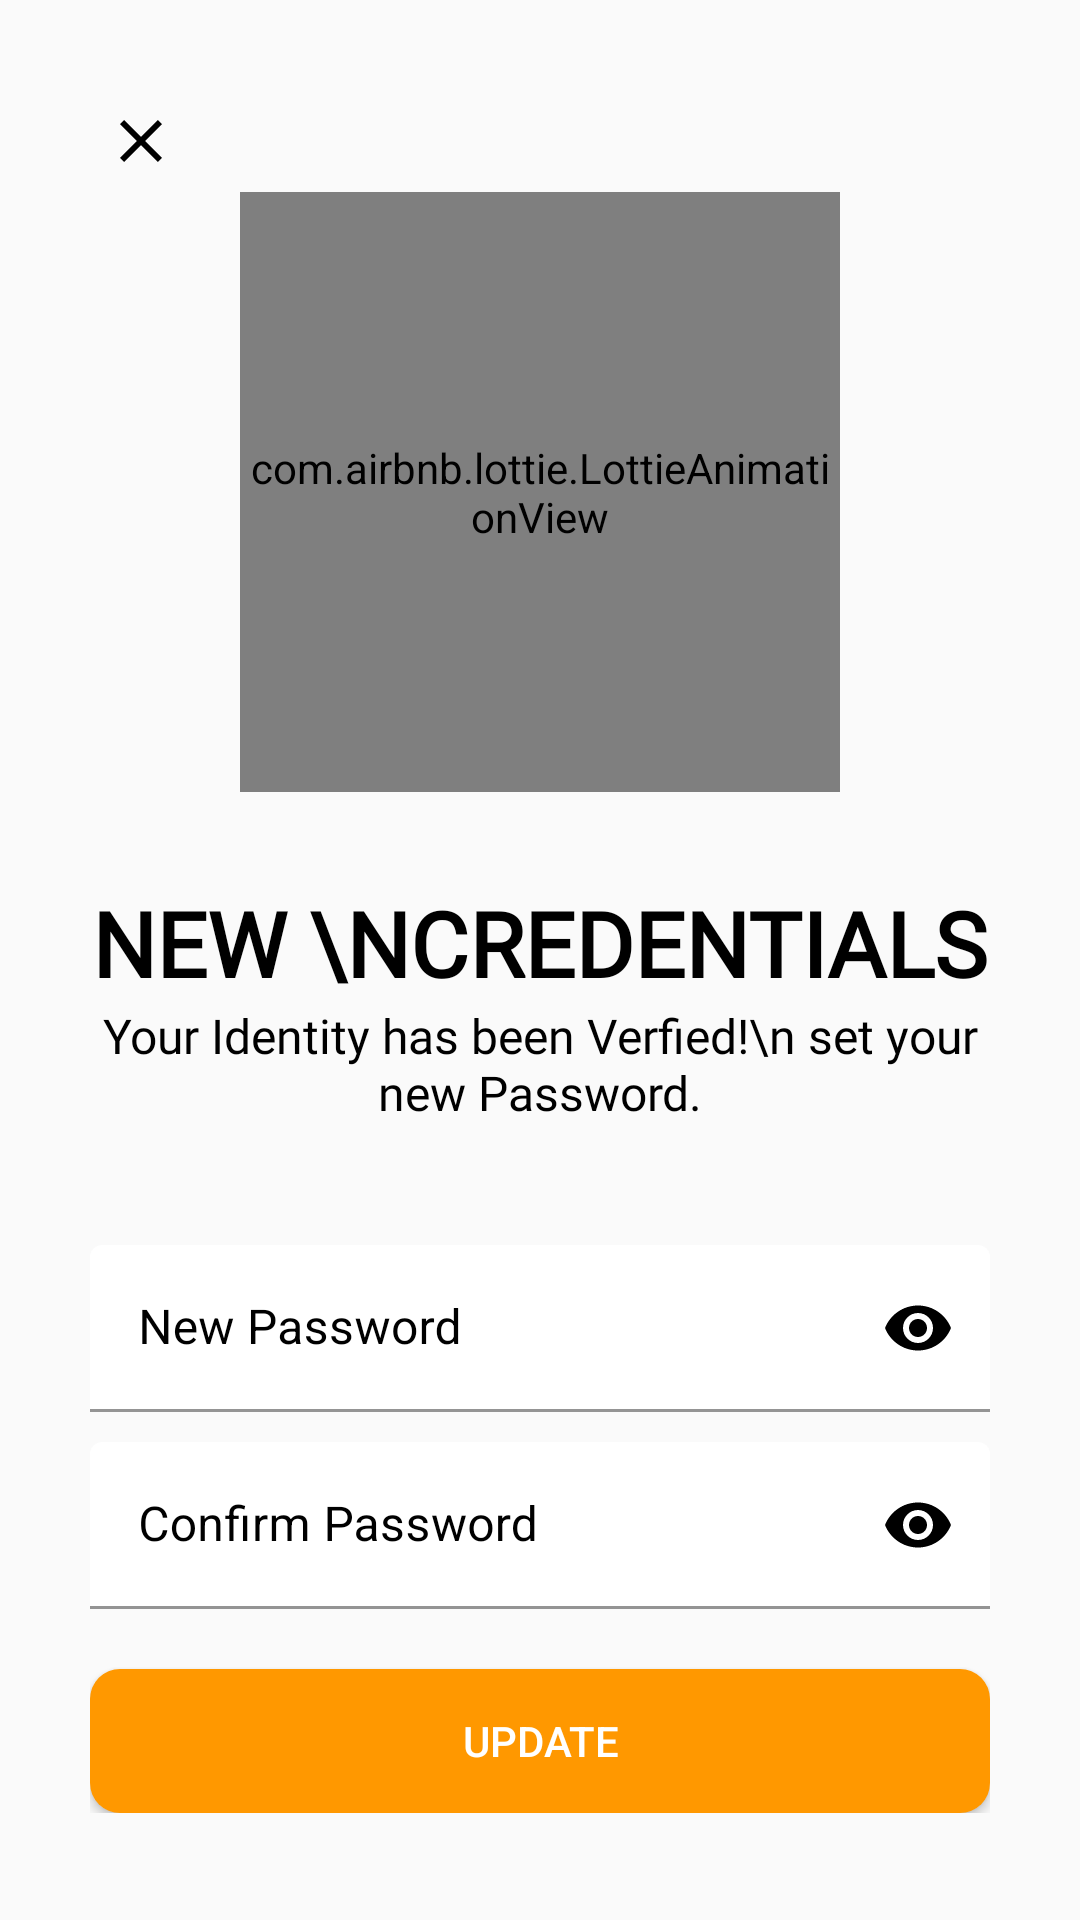

Icons on this 1080px×1920px Android screen, each with the point to tap as point (x, y):
general close: point (141, 141)
